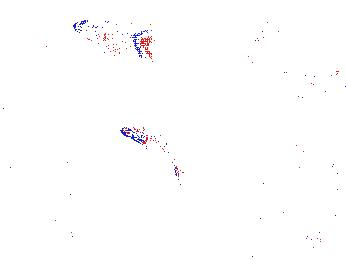X-ray fish: (103, 188, 157, 234)
glassfish: (119, 124, 186, 186)
red belly glassfish: (249, 15, 293, 34)
redtail glassfish: (72, 16, 159, 63), (265, 70, 327, 92)
